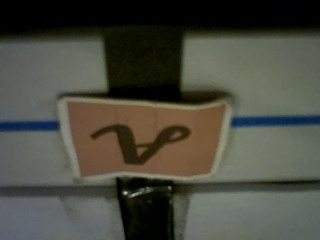A: (66, 100, 216, 178)
